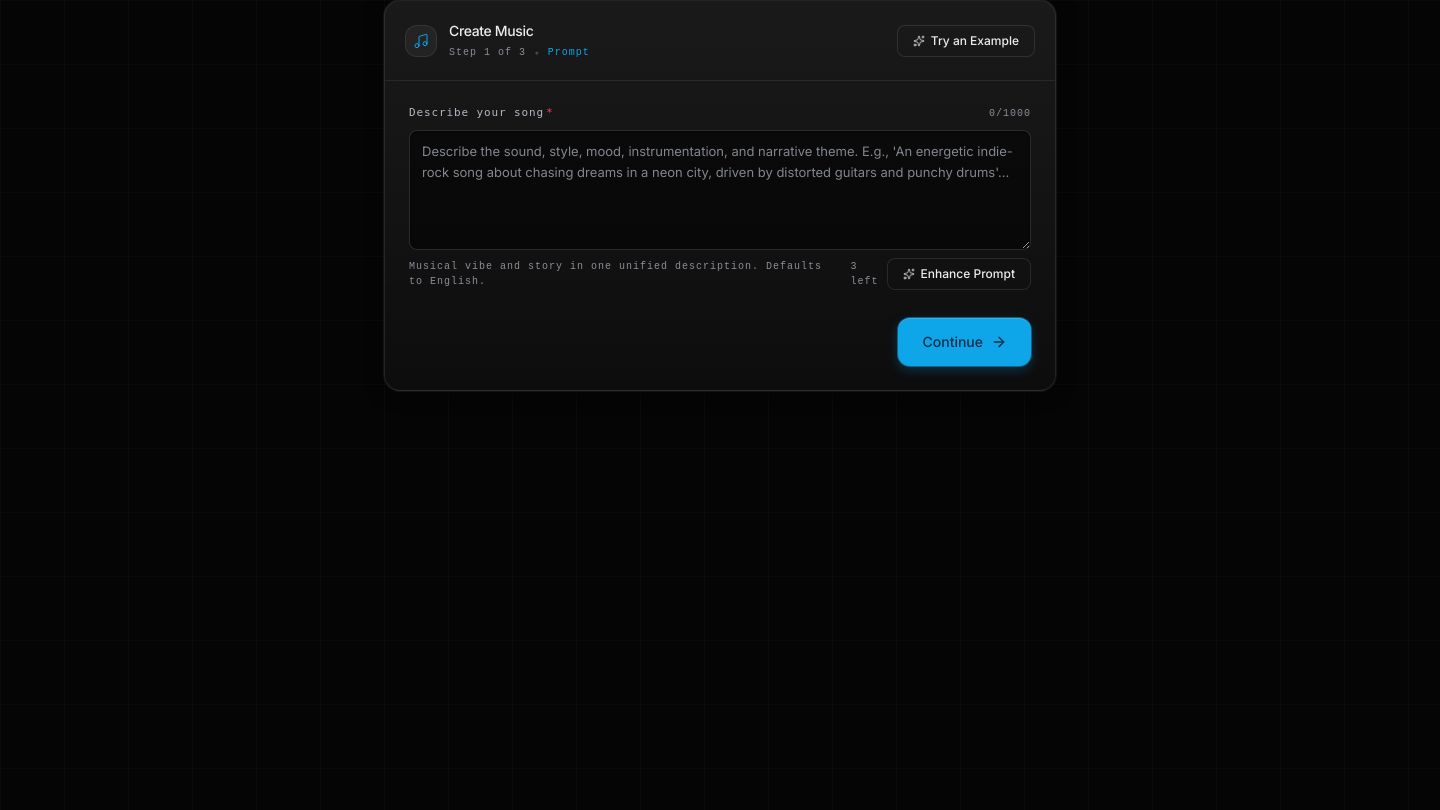
Test: MusicGeneratorWizard - Step 1 › displays a validation error when attempting to advance with a prompt shorter than 3 characters
Step 1. Replace the text in the text box named "prompt" with "ab" → (720, 190), box [409,130,1031,250]
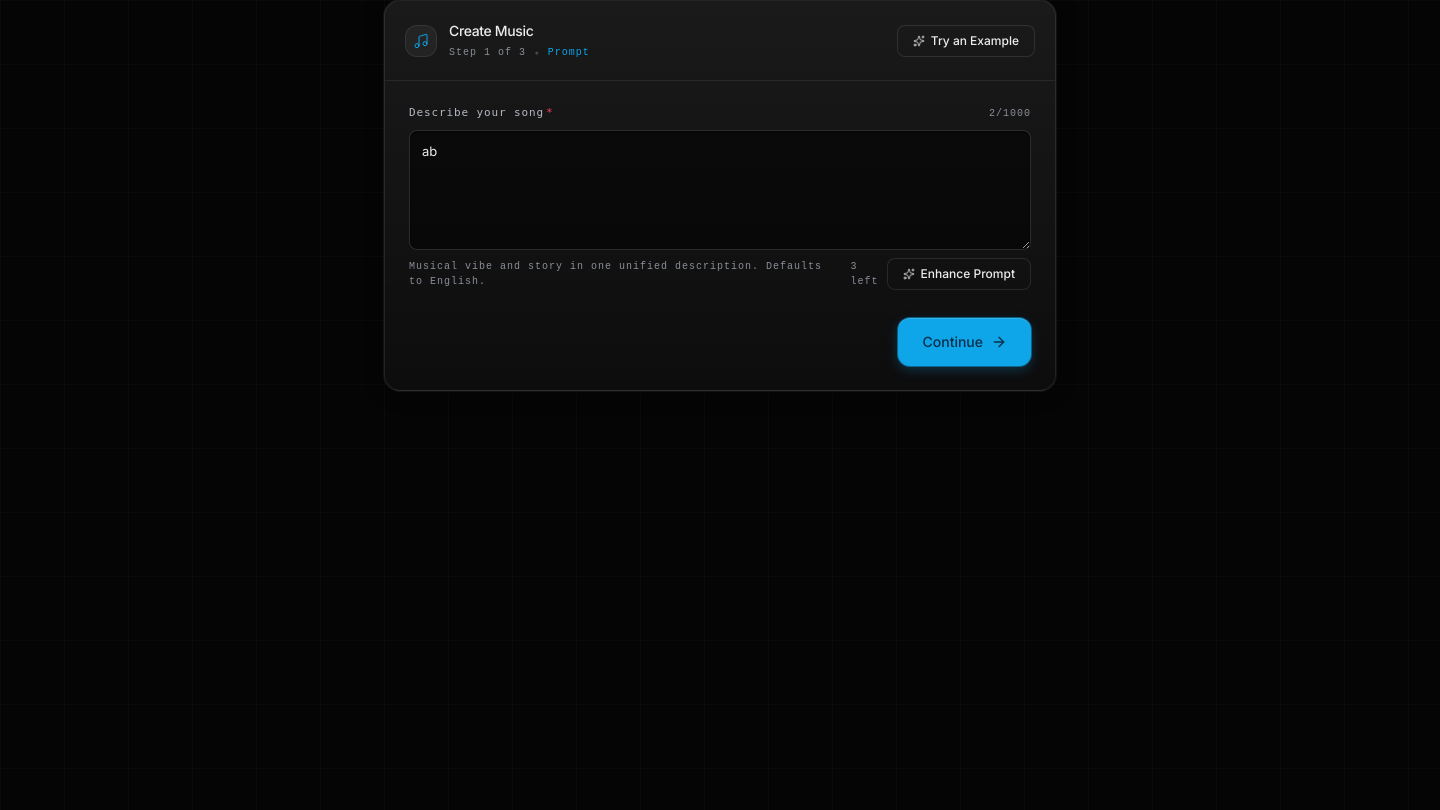
Step 2. Click the button "Continue" → (965, 342), box [898,318,1031,366]
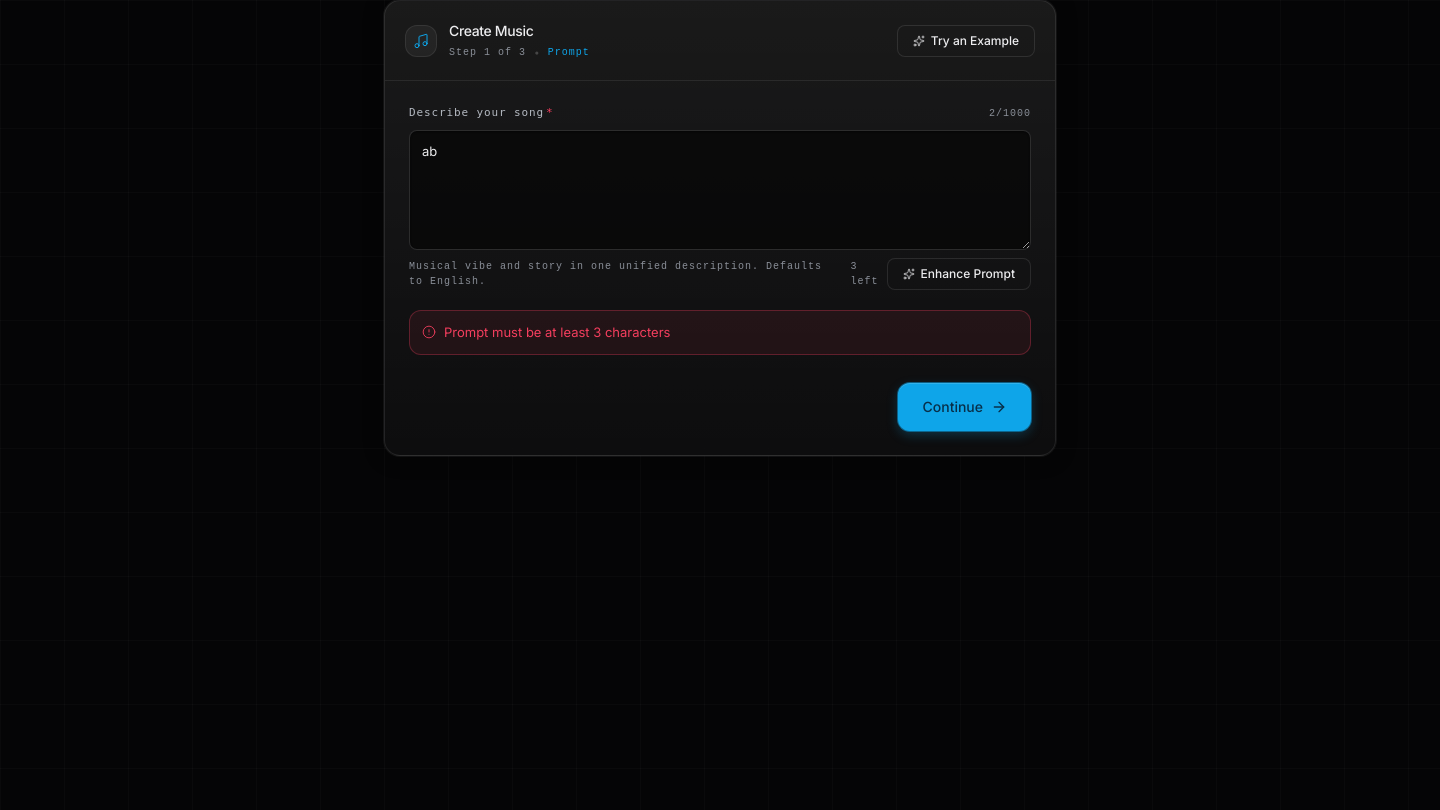
Now the text "Prompt must be at least 3 characters" is shown, box [409,310,1031,355]
